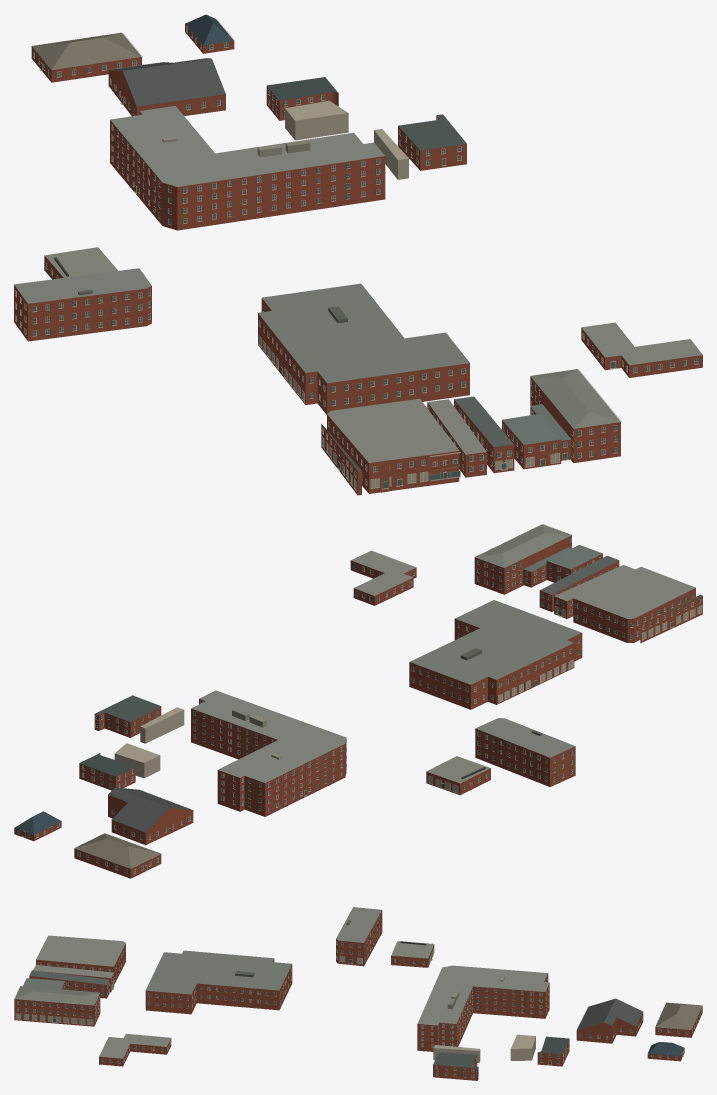
3 renders of one model, top to bottom at view 1: azimuth 30°, elevation 25°; view 2: azimuth 150°, elevation 25°; view 3: azimuth 270°, elevation 25°, orthographic. The views are drawn at different scales.
Visible parts, largest first — view 1: 0_-1_451755569_0; view 2: 0_-1_451755569_0; view 3: 0_-1_451755569_0.
Part boxes in pixels (x1,y1,x2,y2): 0_-1_451755569_0: (14,14,702,495); 0_-1_451755569_0: (14,524,702,878); 0_-1_451755569_0: (14,907,702,1080).
Size of the model in its own units: 186 by 18.86 by 350.
